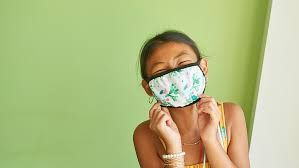with-mask: (136, 32, 214, 112)
